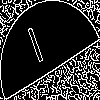I: (25, 25, 49, 73)
